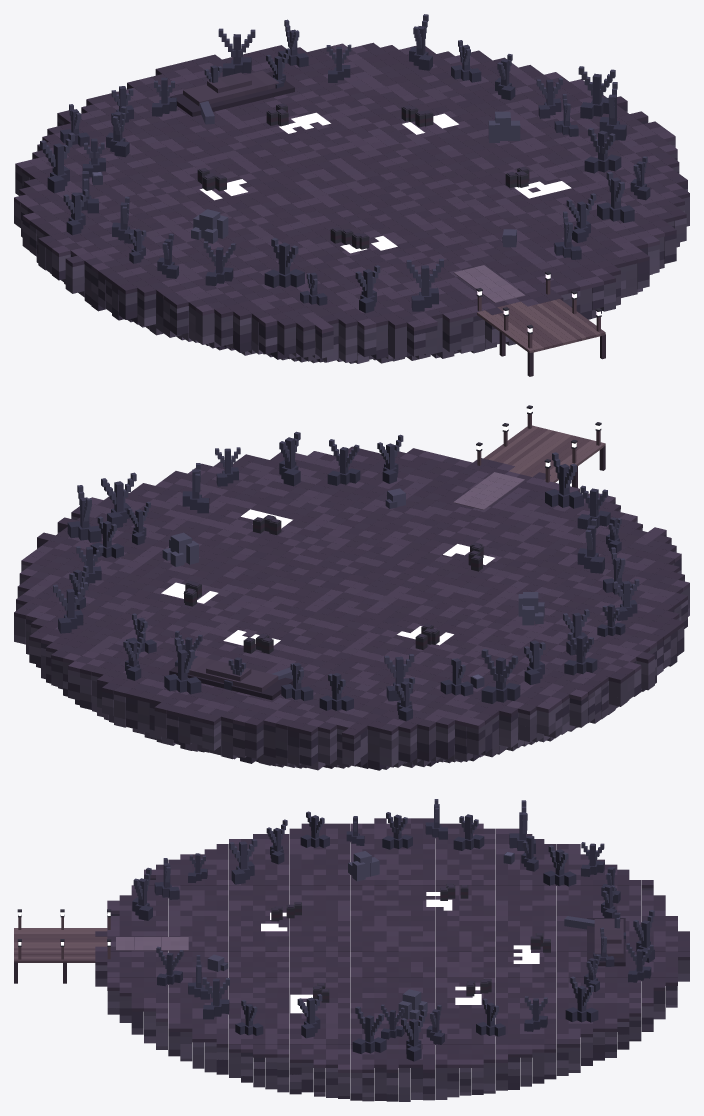
The model's file is landing_polluted.glb.
3 renders of one model, top to bottom at view 1: azimuth 30°, elevation 25°; view 2: azimuth 150°, elevation 25°; view 3: azimuth 270°, elevation 25°, orthographic. The views are drawn at different scales.
Visible parts, largest first — view 1: landing_blocks, tree4_(0, 0).006, tree2_(0, 0).006, tree5_(0, 0).002, tree2_(0, 0).009, tree1_(0, 0).003, tree4_(0, 0).005, tree5_(0, 0).001, rock_outcrop_(0, 0).001, tree2_(0, 0).004, rock_outcrop_(0, 0).002, tree2_(0, 0).007 (+17 smaller); view 2: landing_blocks, tree5_(0, 0).002, tree2_(0, 0).009, tree5_(0, 0).001, tree2_(0, 0).003, tree2_(0, 0).005, tree2_(0, 0).006, tree2_(0, 0).007, rock_outcrop_(0, 0).002, tree4_(0, 0).007, tree4_(0, 0).001, tree4_(0, 0).005 (+18 smaller); view 3: landing_blocks, tree2_(0, 0).003, tree2_(0, 0).005, tree4_(0, 0).006, tree4_(0, 0).005, tree1_(0, 0).001, tree2_(0, 0).006, rock_outcrop_(0, 0).001, tree0_(0, 0).002, tree1_(0, 0).005, tree2_(0, 0).009, tree1_(0, 0).003 (+13 smaller).
Boxes of the visible parts, x1=… form: landing_blocks: x1=14, y1=42, x2=689, y2=376; tree4_(0, 0).006: x1=264, y1=237, x2=304, y2=287; tree2_(0, 0).006: x1=578, y1=66, x2=615, y2=118; tree5_(0, 0).002: x1=40, y1=132, x2=74, y2=193; tree2_(0, 0).009: x1=406, y1=258, x2=443, y2=311; tree1_(0, 0).003: x1=584, y1=127, x2=621, y2=173; tree4_(0, 0).005: x1=597, y1=171, x2=634, y2=222; tree5_(0, 0).001: x1=218, y1=28, x2=255, y2=76; rock_outcrop_(0, 0).001: x1=191, y1=209, x2=228, y2=243; tree2_(0, 0).004: x1=203, y1=241, x2=235, y2=285; rock_outcrop_(0, 0).002: x1=488, y1=111, x2=520, y2=142; tree2_(0, 0).007: x1=566, y1=193, x2=596, y2=242; landing_blocks: x1=14, y1=405, x2=689, y2=770; tree5_(0, 0).002: x1=481, y1=648, x2=520, y2=703; tree2_(0, 0).009: x1=545, y1=452, x2=583, y2=508; tree5_(0, 0).001: x1=164, y1=637, x2=201, y2=694; tree2_(0, 0).003: x1=101, y1=472, x2=136, y2=527; tree2_(0, 0).005: x1=53, y1=582, x2=88, y2=633; tree2_(0, 0).006: x1=67, y1=485, x2=101, y2=542; tree2_(0, 0).007: x1=327, y1=439, x2=360, y2=485; rock_outcrop_(0, 0).002: x1=162, y1=532, x2=198, y2=566; tree4_(0, 0).007: x1=564, y1=632, x2=597, y2=675; tree4_(0, 0).001: x1=577, y1=485, x2=610, y2=529; tree4_(0, 0).005: x1=279, y1=431, x2=300, y2=486; landing_blocks: x1=14, y1=818, x2=689, y2=1101; tree2_(0, 0).003: x1=352, y1=1006, x2=386, y2=1053; tree2_(0, 0).005: x1=565, y1=976, x2=598, y2=1022; tree4_(0, 0).006: x1=229, y1=839, x2=257, y2=884; tree4_(0, 0).005: x1=202, y1=977, x2=229, y2=1019; tree1_(0, 0).001: x1=543, y1=845, x2=576, y2=886; tree2_(0, 0).006: x1=401, y1=1009, x2=426, y2=1061; rock_outcrop_(0, 0).001: x1=348, y1=851, x2=379, y2=881; tree0_(0, 0).002: x1=453, y1=814, x2=484, y2=850; tree1_(0, 0).005: x1=382, y1=812, x2=412, y2=849; tree2_(0, 0).009: x1=132, y1=867, x2=152, y2=920; tree1_(0, 0).003: x1=297, y1=994, x2=322, y2=1038.
Bounding box in the file's own units: 61.24 × 14.88 × 69.62.
